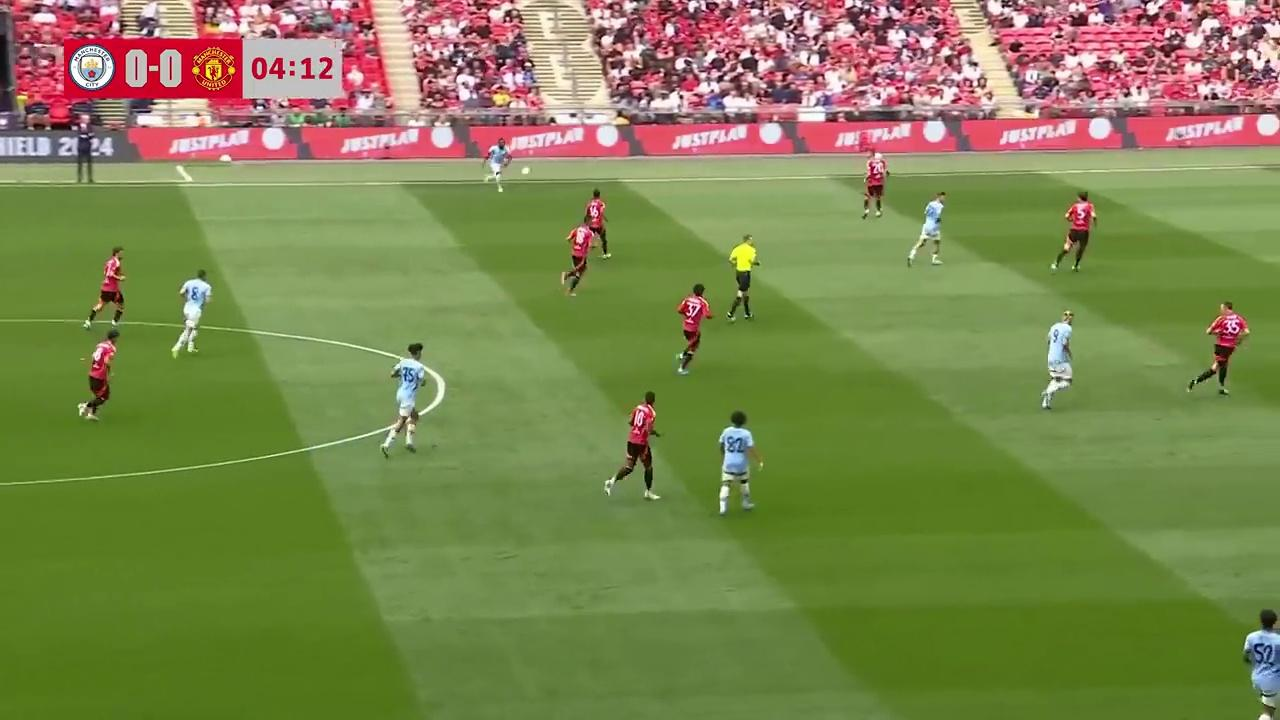player: (604, 390, 662, 500), (1186, 301, 1249, 398), (382, 344, 426, 459), (717, 410, 762, 515), (1242, 608, 1280, 720), (77, 325, 119, 421), (171, 269, 211, 358), (84, 246, 126, 329), (1052, 192, 1096, 271), (676, 284, 714, 375), (907, 192, 946, 268), (1041, 316, 1072, 410), (1045, 310, 1074, 395), (563, 223, 592, 297), (584, 188, 609, 258), (862, 153, 888, 220), (484, 142, 507, 192)
referee: (728, 234, 760, 321)
